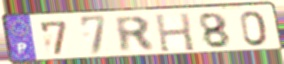0: (239, 10, 269, 47)
7: (78, 14, 109, 59), (37, 19, 69, 57)
8: (197, 11, 232, 50)
H: (153, 11, 197, 53)
R: (113, 15, 159, 55)
